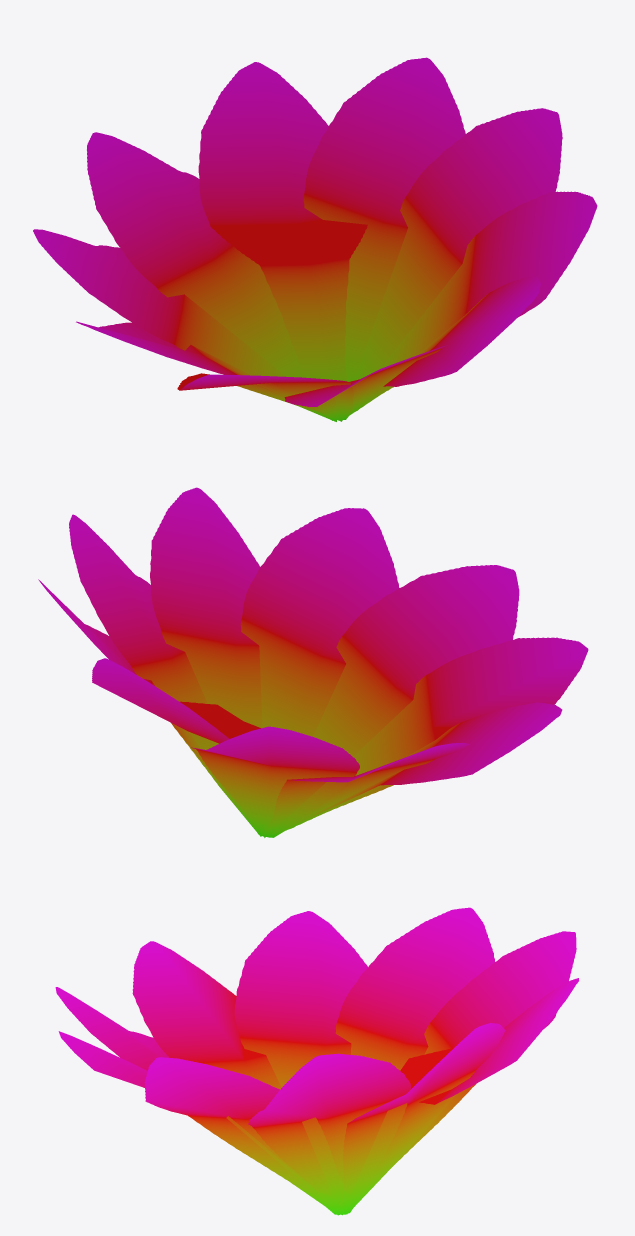
Rendered from Flower4.fbx.
3 views of the same model, one above another, from view 1: azimuth 30°, elevation 25°; view 2: azimuth 150°, elevation 25°; view 3: azimuth 270°, elevation 25° (orthographic). The views are drawn at different scales.
Visible parts, largest first — view 1: Flower4; view 2: Flower4; view 3: Flower4.
Part boxes in pixels (bbox=[...]): Flower4: bbox=[33, 57, 597, 421]; Flower4: bbox=[38, 487, 588, 837]; Flower4: bbox=[55, 907, 578, 1215].
Bounding box in the file's own units: 1.19 × 0.6626 × 1.23.
